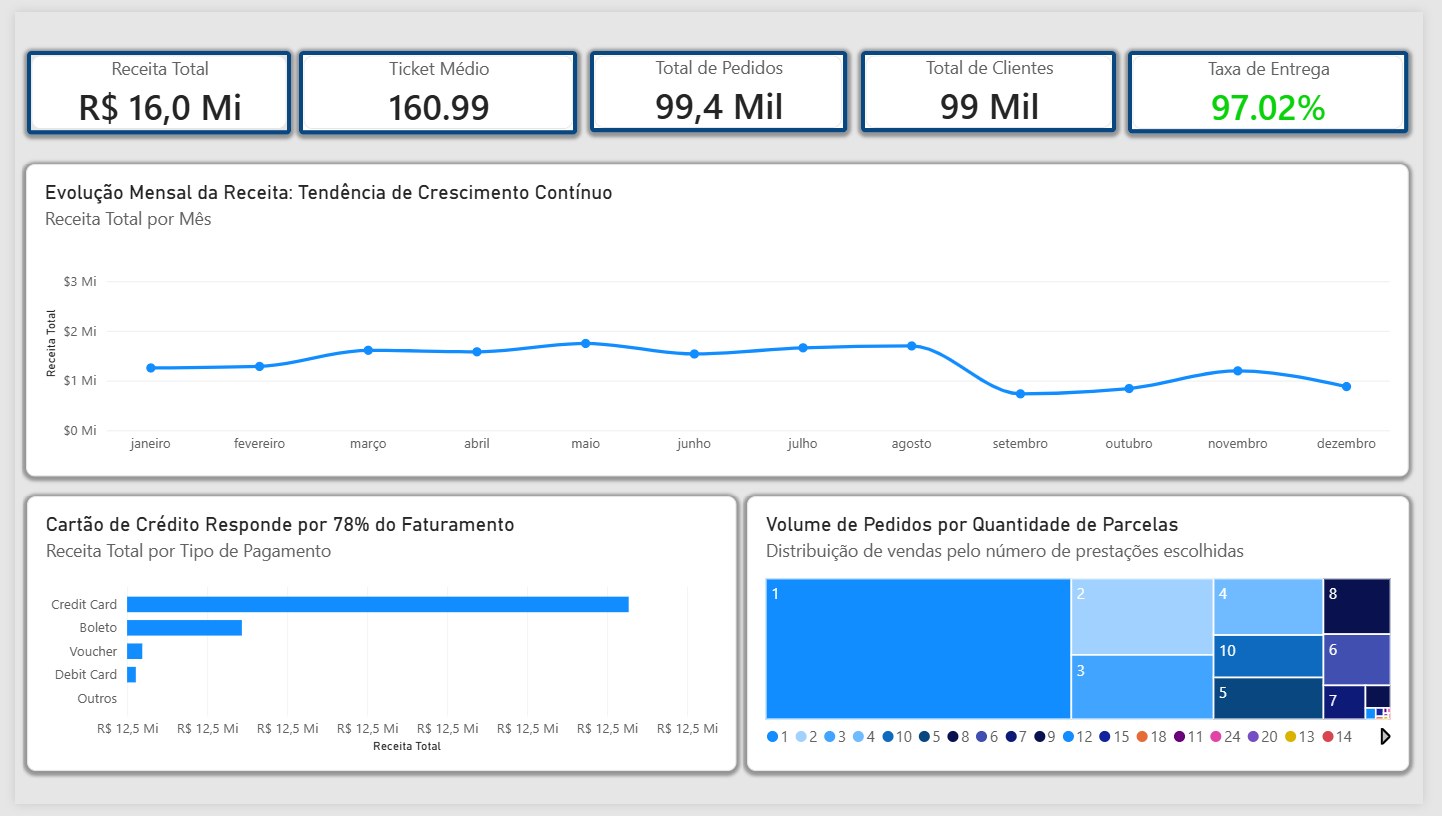

What the dashboard file says about the page in this screenshot:
{"tool":"powerbi","page":{"name":"Visão Executiva","canvas":[1280,720],"ordinal":0},"visuals":[{"type":"cardVisual","fields":{"Data":["olist_order_payments_dataset.Receita Total"]},"box":[11.3,35.1,240.3,75.8],"z":0},{"type":"cardVisual","fields":{"Data":["olist_orders_dataset.Total de Pedidos"]},"box":[522.6,35.1,233.9,74.2],"z":1000},{"type":"cardVisual","fields":{"Data":["olist_order_payments_dataset.Ticket Médio"]},"box":[258.1,35.1,253.2,75.8],"z":2000},{"type":"cardVisual","fields":{"Data":["olist_orders_dataset.Total de Clientes"]},"box":[769.4,35.1,232.3,74.2],"z":3000},{"type":"cardVisual","fields":{"Data":["olist_orders_dataset.Taxa de Entrega"]},"box":[1012.1,35.1,255,75.3],"z":4000},{"type":"lineChart","title":"Evolução Mensal da Receita: Tendência de Crescimento Contínuo","fields":{"Category":["olist_orders_dataset.order_purchase_timestamp.Variation.Hierarquia de datas.Mês"],"Y":["olist_order_payments_dataset.Receita Total 2"]},"box":[10,138,1257,284],"z":5000},{"type":"treemap","title":"Volume de Pedidos por Quantidade de Parcelas","fields":{"Group":["olist_order_payments_dataset.payment_installments"],"Values":["olist_orders_dataset.Total de Pedidos"]},"box":[665,440,602,250],"z":6000},{"type":"clusteredBarChart","title":"Cartão de Crédito Responde por 78% do Faturamento","fields":{"Category":["olist_order_payments_dataset.Tipo de Pagamento"],"Y":["olist_order_payments_dataset.Receita Total"]},"box":[11,440,645,250],"z":7000}]}

Visuals, with their boxes in screenshot pixels (x1, y1, x2, y2), scaled from the page's 1280x720 canvas onto the 1442x816 screenshot:
cardVisual - olist_order_payments_dataset.Receita Total: <bbox>13, 40, 283, 126</bbox>
cardVisual - olist_orders_dataset.Total de Pedidos: <bbox>589, 40, 852, 124</bbox>
cardVisual - olist_order_payments_dataset.Ticket Médio: <bbox>291, 40, 576, 126</bbox>
cardVisual - olist_orders_dataset.Total de Clientes: <bbox>867, 40, 1128, 124</bbox>
cardVisual - olist_orders_dataset.Taxa de Entrega: <bbox>1140, 40, 1427, 125</bbox>
"Evolução Mensal da Receita: Tendência de Crescimento Contínuo" lineChart: <bbox>11, 156, 1427, 478</bbox>
"Volume de Pedidos por Quantidade de Parcelas" treemap: <bbox>749, 499, 1427, 782</bbox>
"Cartão de Crédito Responde por 78% do Faturamento" clusteredBarChart: <bbox>12, 499, 739, 782</bbox>
